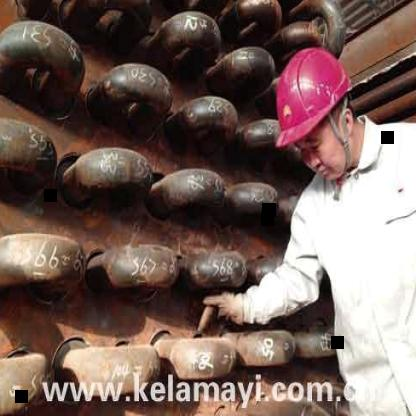helmet: (265, 36, 364, 188)
